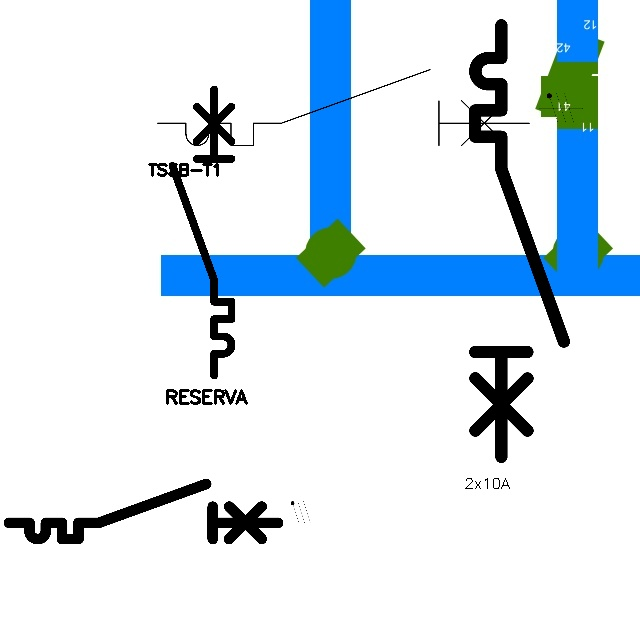interruptor_termomagnetico: (464, 14, 575, 468), (148, 60, 538, 155), (165, 82, 239, 383), (2, 477, 284, 546)
